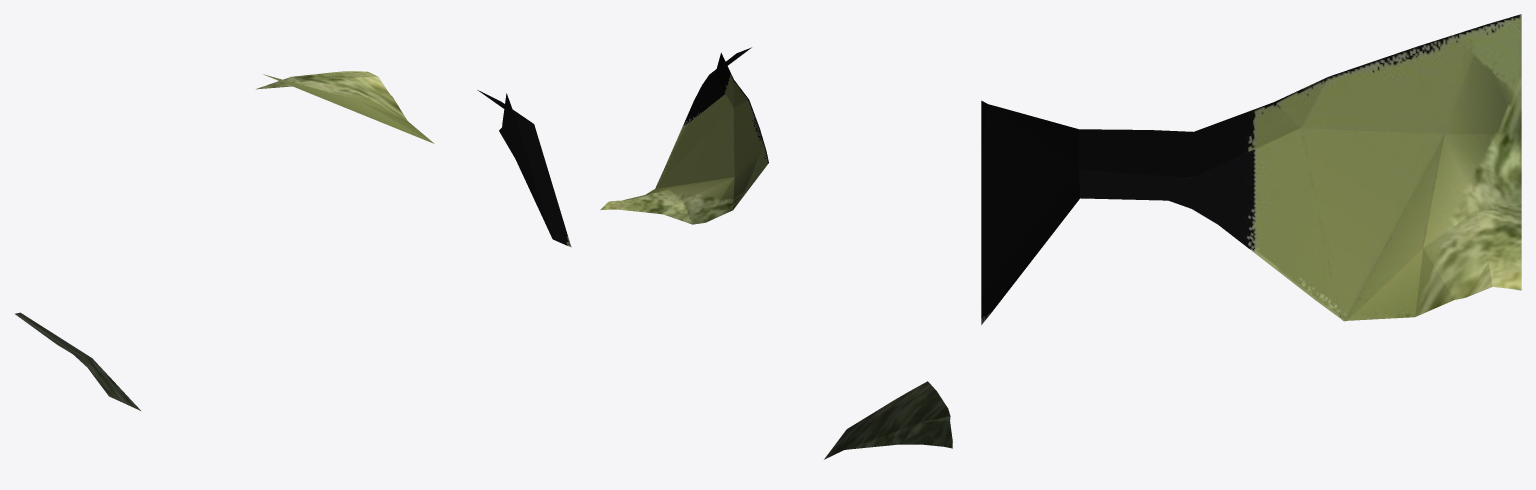
The picture shows the model from 3 angles, left to right: view 1: azimuth 30°, elevation 25°; view 2: azimuth 150°, elevation 25°; view 3: azimuth 270°, elevation 25°; orthographic projection. The views are drawn at different scales.
Bounding box in the file's own units: 5.9 × 5.9 × 5.9.
2 materials, 2 textured.
